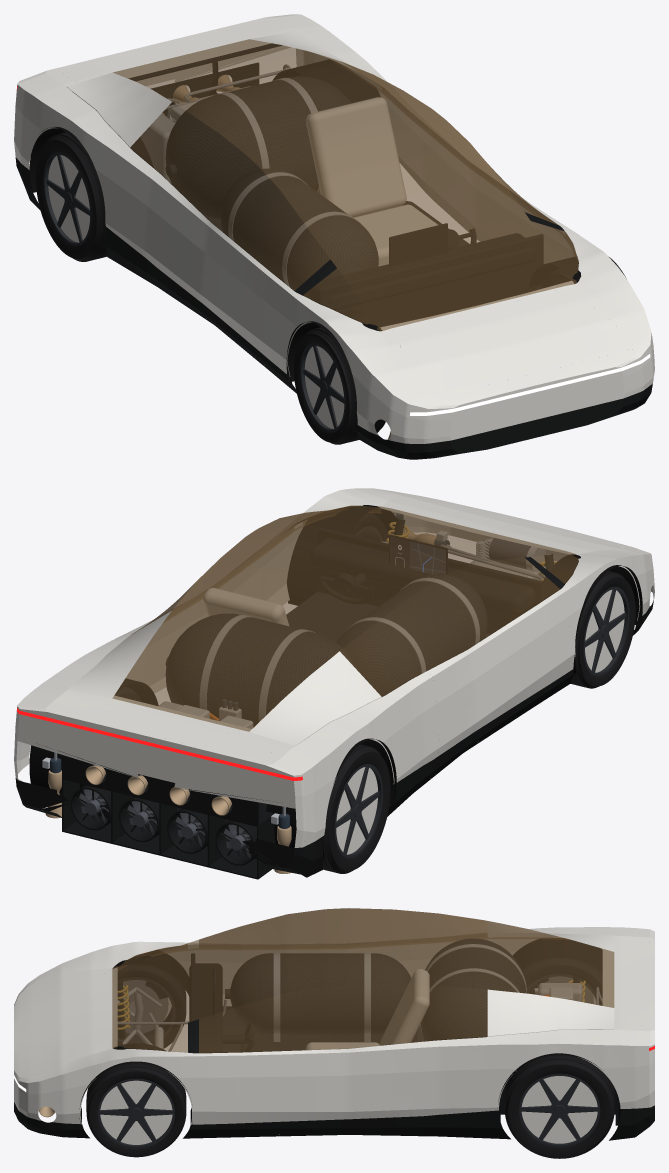
Rendered from tesla-roadster.glb.
3 views of the same model, one above another, from view 1: azimuth 30°, elevation 25°; view 2: azimuth 150°, elevation 25°; view 3: azimuth 270°, elevation 25° (orthographic). The views are drawn at different scales.
Visible parts, largest first — view 1: canopy, body, front_bumper, bonnet, tank_main, door_right, tank_seat, window_right, seats, cabin_floor, door_left, wheel_rr (+8 smaller); view 2: canopy, body, rear_bumper, door_right, fan_box, tank_main, tank_seat, window_right, wheel_wells, dashboard, wheel_rr, cabin_floor (+12 smaller); view 3: canopy, body, door_left, tank_seat, window_left, wheel_rl, wheel_fl, tank_main, bonnet, window_right, wheel_wells, door_right (+14 smaller).
Boxes of the visible parts, bbox=[...] form: canopy: bbox=[67, 31, 578, 331]; body: bbox=[14, 15, 654, 459]; front_bumper: bbox=[408, 347, 652, 459]; bonnet: bbox=[392, 288, 627, 398]; tank_main: bbox=[166, 76, 351, 218]; door_right: bbox=[161, 187, 293, 388]; tank_seat: bbox=[221, 168, 378, 299]; window_right: bbox=[175, 128, 329, 290]; seats: bbox=[306, 97, 437, 266]; cabin_floor: bbox=[318, 201, 543, 326]; door_left: bbox=[428, 126, 568, 263]; wheel_rr: bbox=[35, 132, 107, 261]; canopy: bbox=[67, 505, 578, 745]; body: bbox=[16, 488, 654, 877]; rear_bumper: bbox=[14, 704, 305, 871]; door_right: bbox=[427, 589, 571, 778]; fan_box: bbox=[62, 752, 275, 879]; tank_main: bbox=[166, 614, 358, 726]; tank_seat: bbox=[337, 574, 487, 696]; window_right: bbox=[392, 557, 559, 669]; wheel_wells: bbox=[29, 505, 642, 856]; dashboard: bbox=[310, 534, 534, 615]; wheel_rr: bbox=[323, 744, 390, 873]; cabin_floor: bbox=[286, 527, 543, 641]; canopy: bbox=[112, 908, 614, 1053]; body: bbox=[26, 927, 648, 1140]; door_left: bbox=[199, 1042, 412, 1135]; tank_seat: bbox=[225, 953, 410, 1041]; window_left: bbox=[199, 984, 410, 1052]; wheel_rl: bbox=[504, 1054, 614, 1158]; wheel_fl: bbox=[86, 1063, 186, 1157]; tank_main: bbox=[420, 938, 526, 1041]; bonnet: bbox=[26, 973, 110, 1073]; window_right: bbox=[199, 908, 410, 943]; wheel_wells: bbox=[79, 938, 620, 1129]; door_right: bbox=[199, 939, 412, 1005].
Bounding box in the file's own units: 1.9 × 1.12 × 4.24.
